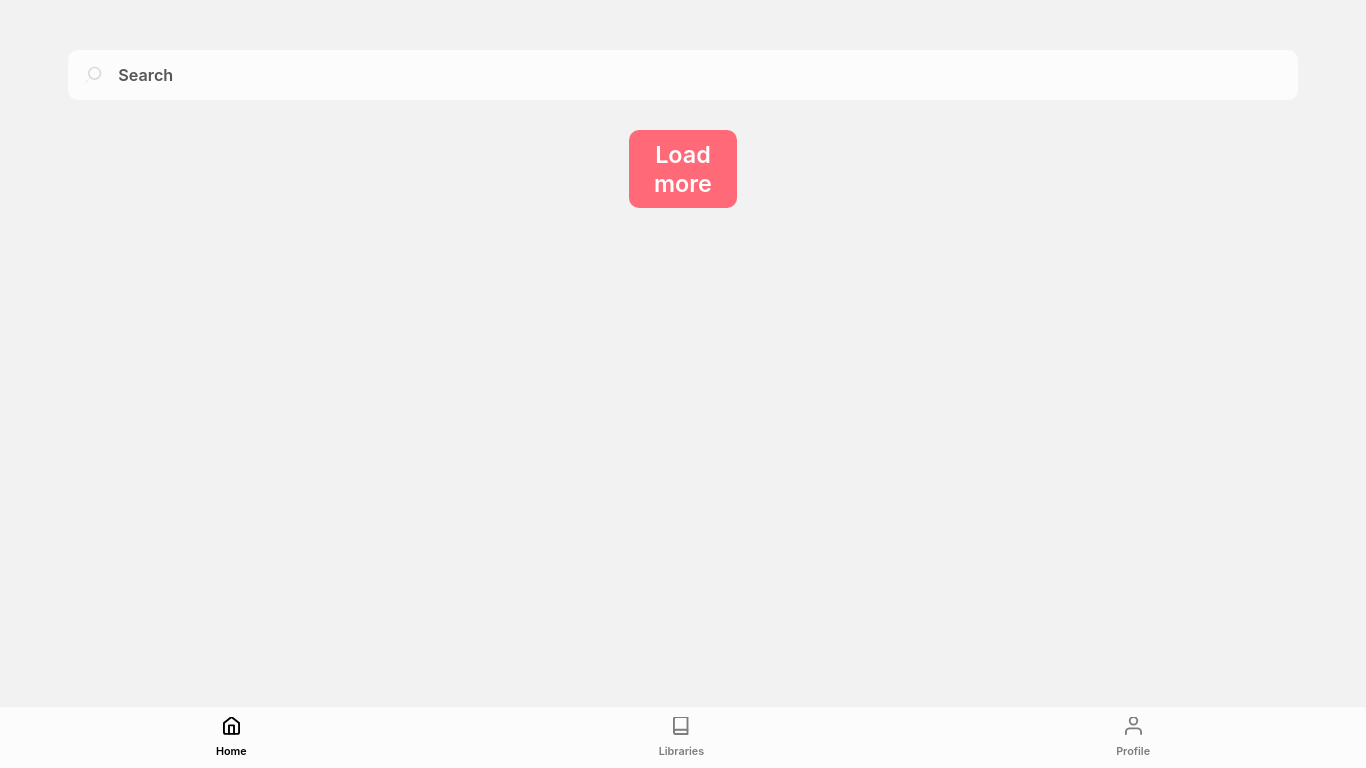
Test case: The search › page › displays the correct message if no books were found
The width and height of the screenshot is (1366, 768).
Type "test" into the search field named "query" at (708, 75), box [118,50,1297,100]
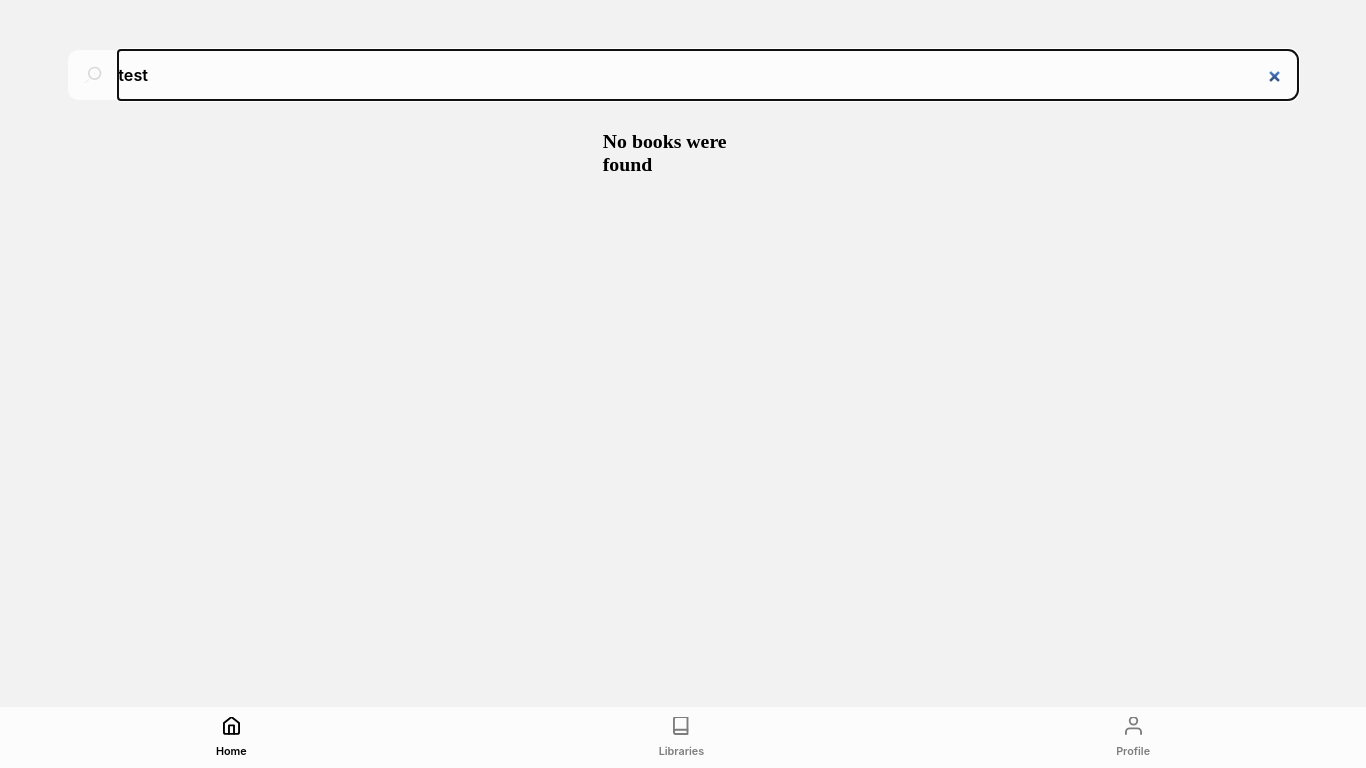
Now the heading "No books were found" is shown, box [603,130,727,175]
